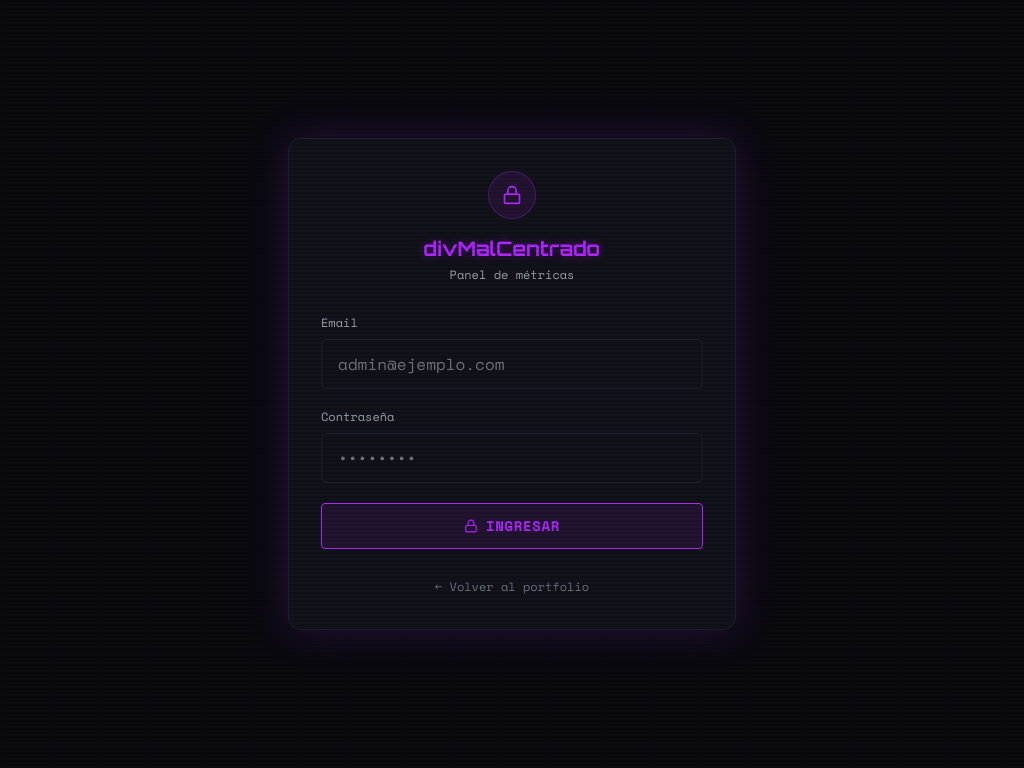
Login Component › shows loading state on submit with "Verificando..." and disabled button
Type "admin@test.com" into the field with placeholder "admin@ejemplo.com" at (512, 364), box [321, 339, 703, 389]
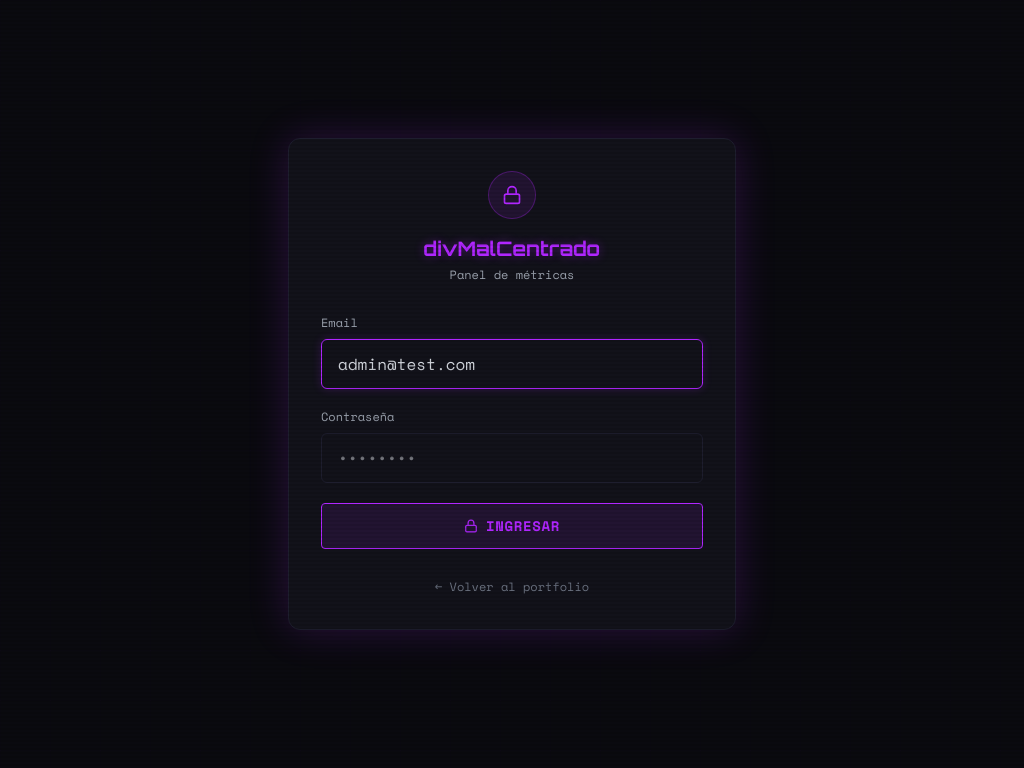
Type "password123" into the password field with placeholder "••••••••" at (512, 458), box [321, 433, 703, 483]
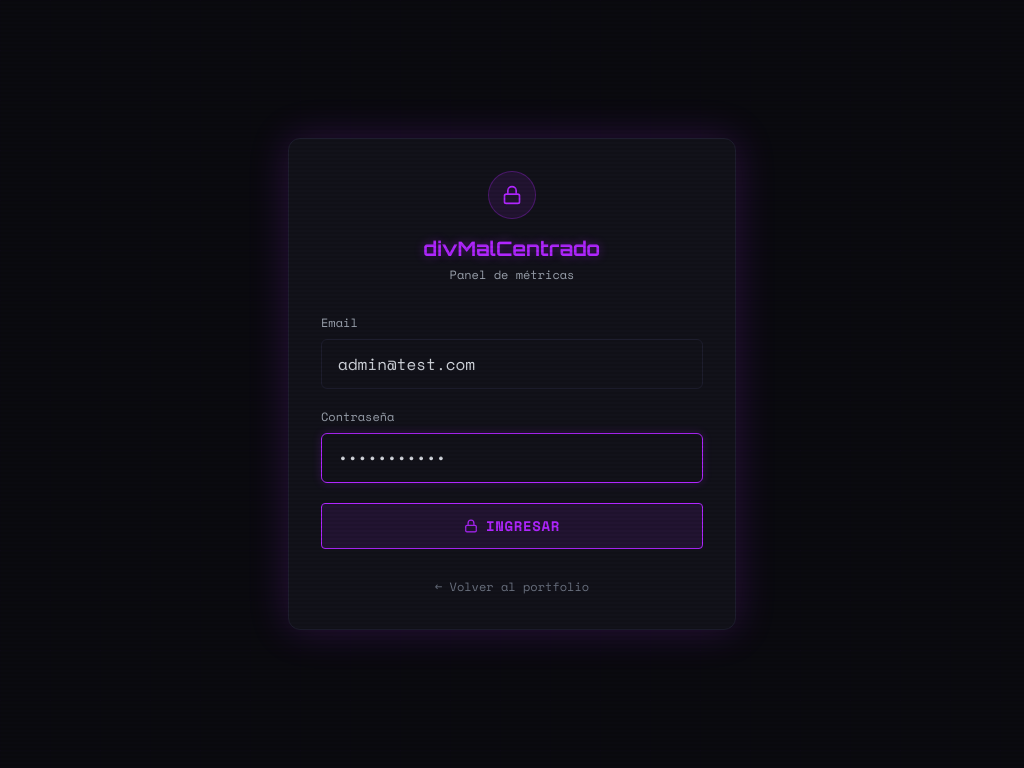
Click the button "Ingresar" at (512, 526), box [321, 503, 703, 549]
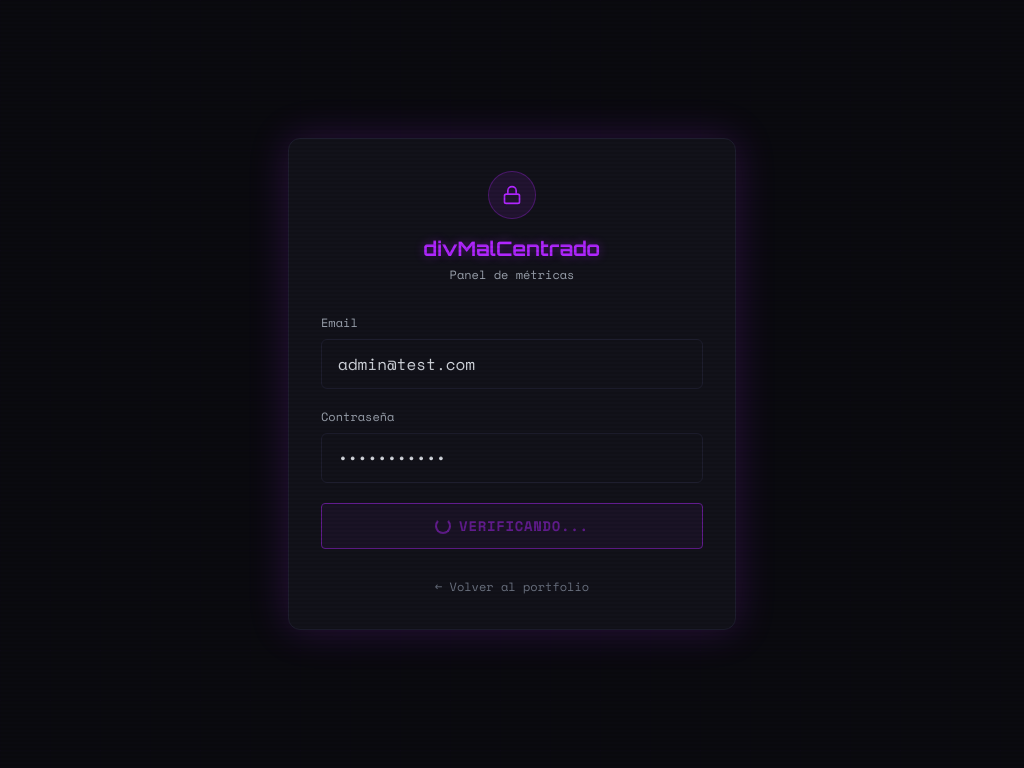
Check: the button "Verificando..." is disabled, box [321, 503, 703, 549]
